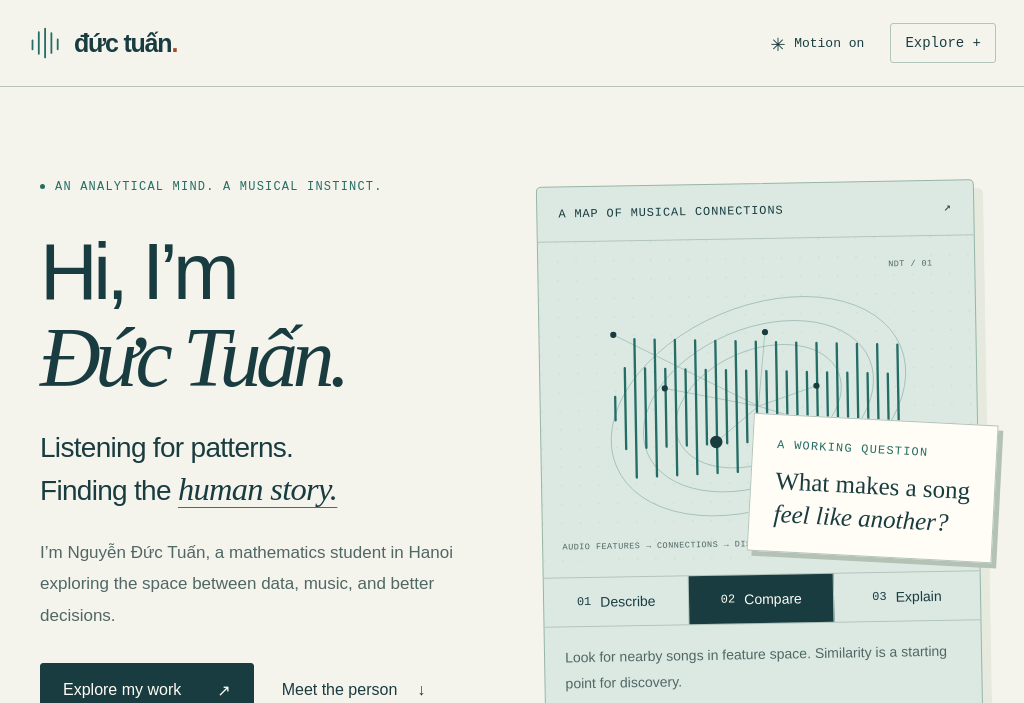
Reference-informed public portfolio › closes the mobile menu with Escape and returns keyboard focus
Click the button with test id "mobile-menu-toggle".
click(943, 43)  # box [890,23,996,63]
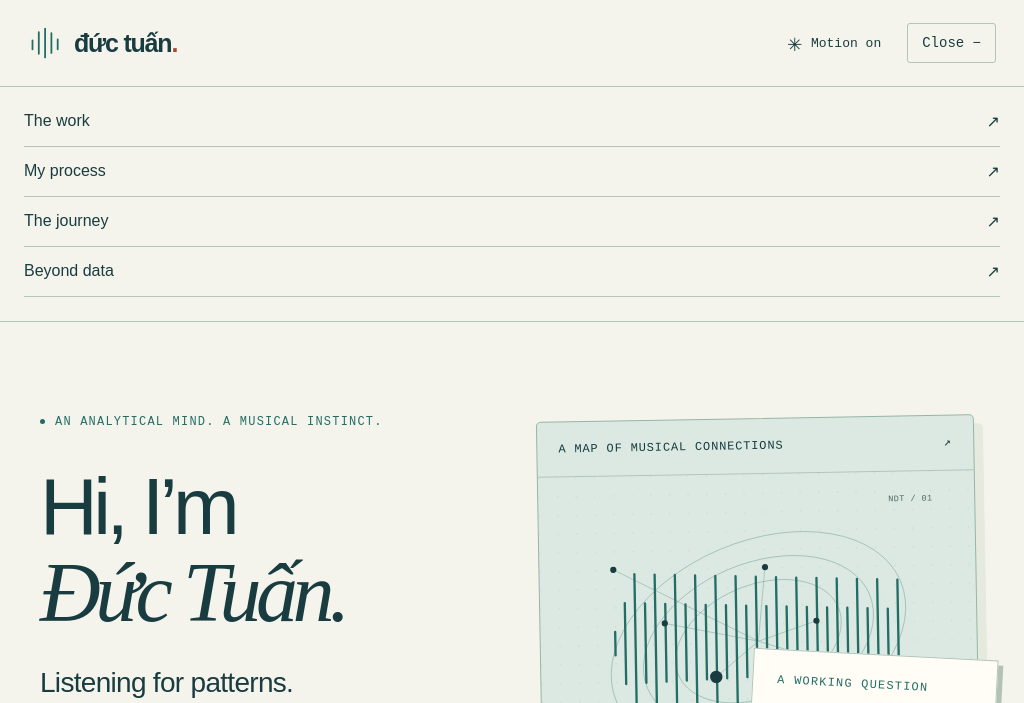
Press Escape
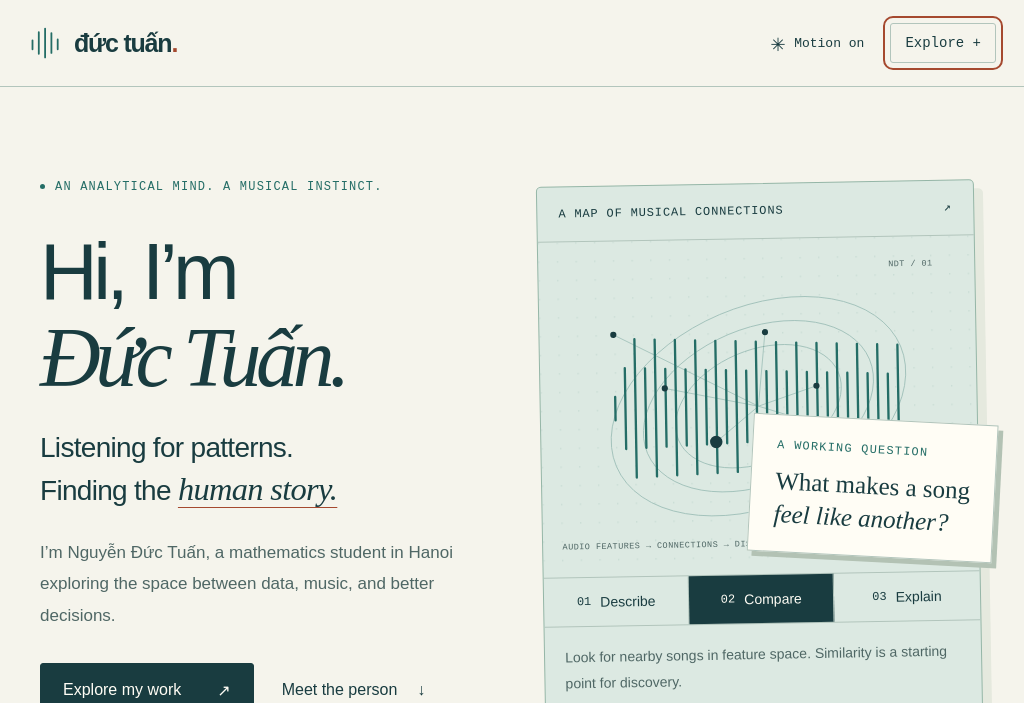
expect the button with test id "mobile-menu-toggle" is collapsed: met, box [890,23,996,63]
